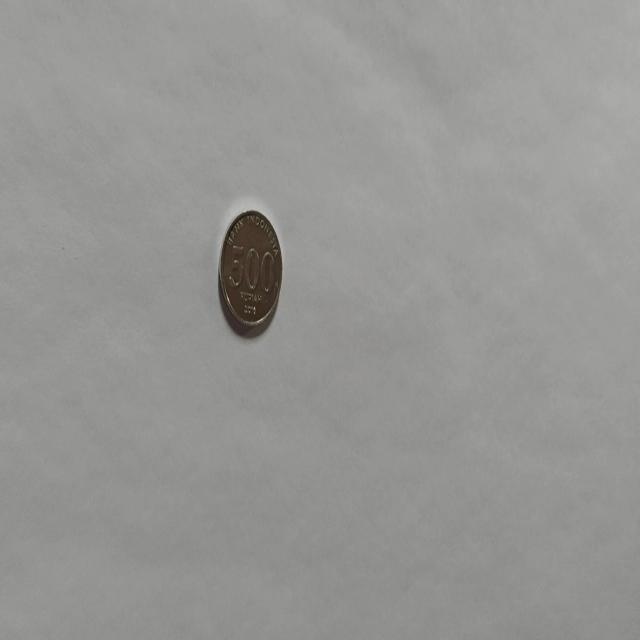lima ratus rupiah: (217, 207, 283, 336)
